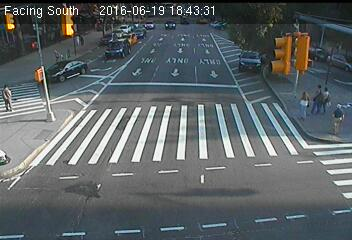neg: (253, 44, 273, 71), (2, 41, 21, 68), (1, 149, 14, 167), (62, 49, 73, 63), (27, 42, 37, 56)
pos: (325, 101, 351, 135), (293, 90, 317, 122), (77, 33, 88, 49)
